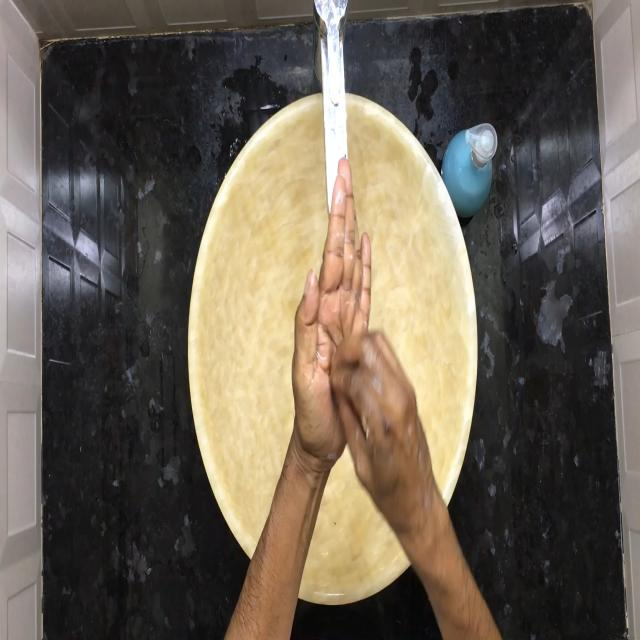step_6: (285, 148, 431, 512)
